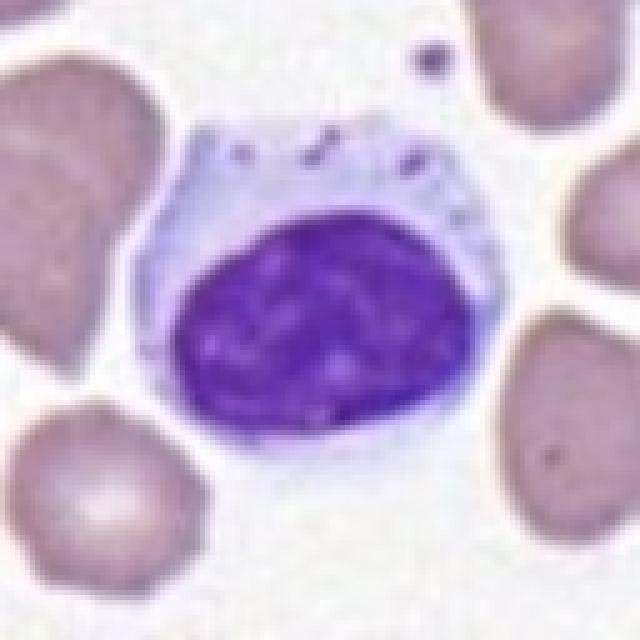lympho: (125, 102, 515, 477)
